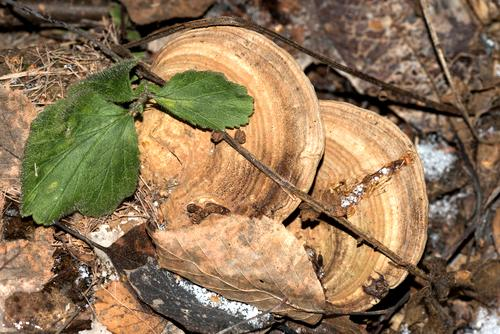Ganoderma - Fruit Body: (115, 23, 324, 241), (327, 98, 432, 324)
